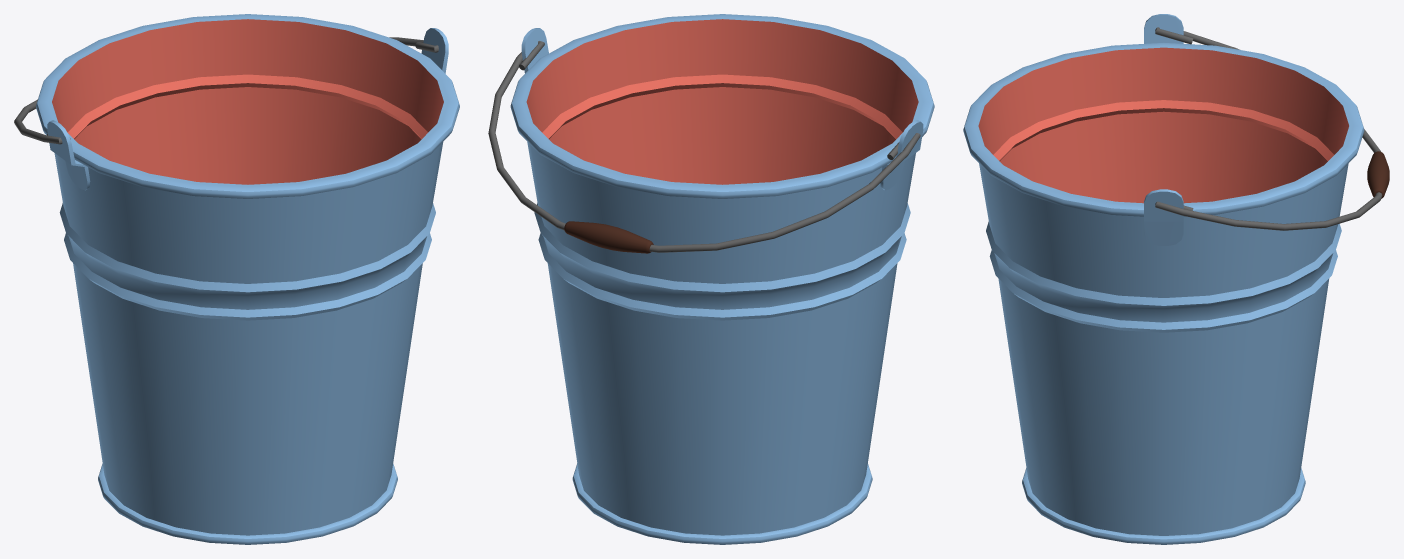
File: Bucket_low.fbx
3 renders of one model, left to right at view 1: azimuth 30°, elevation 25°; view 2: azimuth 150°, elevation 25°; view 3: azimuth 270°, elevation 25°, orthographic. The views are drawn at different scales.
Parts seen in each view (by area): view 1: bucket_low; view 2: bucket_low; view 3: bucket_low.
Part boxes in pixels (<box>): bucket_low: <box>14,14,459,544</box>; bucket_low: <box>488,14,934,544</box>; bucket_low: <box>963,14,1389,544</box>.
Bounding box in the file's own units: 376 × 373 × 374.
